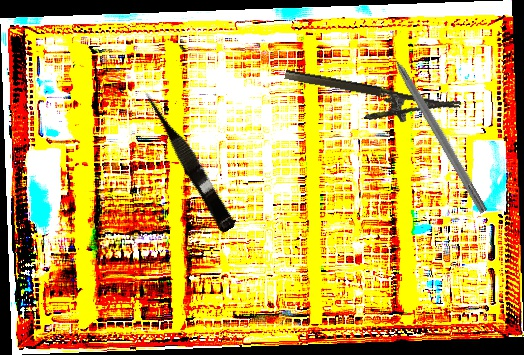Hook Surgical: (381, 37, 490, 215)
Micro Scissor: (139, 85, 240, 234)
Needle Holder: (279, 67, 462, 137)
